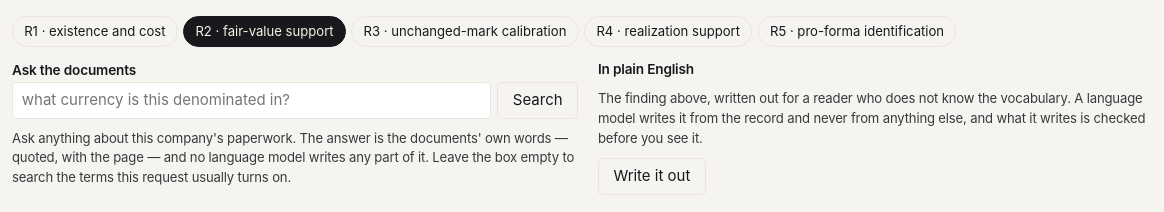
Test case: the plain-English window › shows the paragraph and says a machine wrote it and what was checked
What coordinates should you click on to do the following:
click the button "Write it out"
I would click on:
 (652, 177)
Its box is [598,158,706,195].
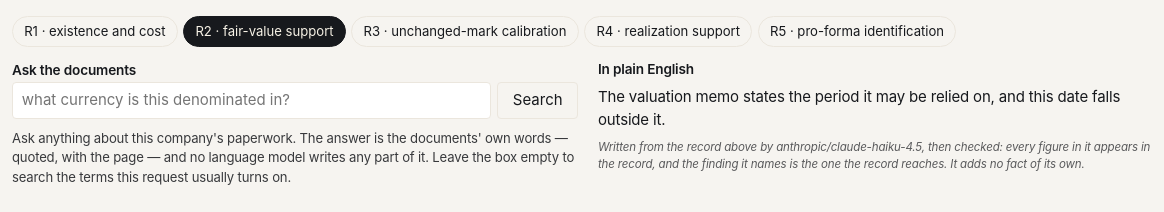
Expected: the text "period it may be relied on" is shown, [598,87,1120,129]
Expected: the text "then checked" shows "anthropic/claude-haiku-4.5", [776,140,922,154]
Expected: the text "then checked" shows "adds no fact of its own", [598,140,1150,171]
